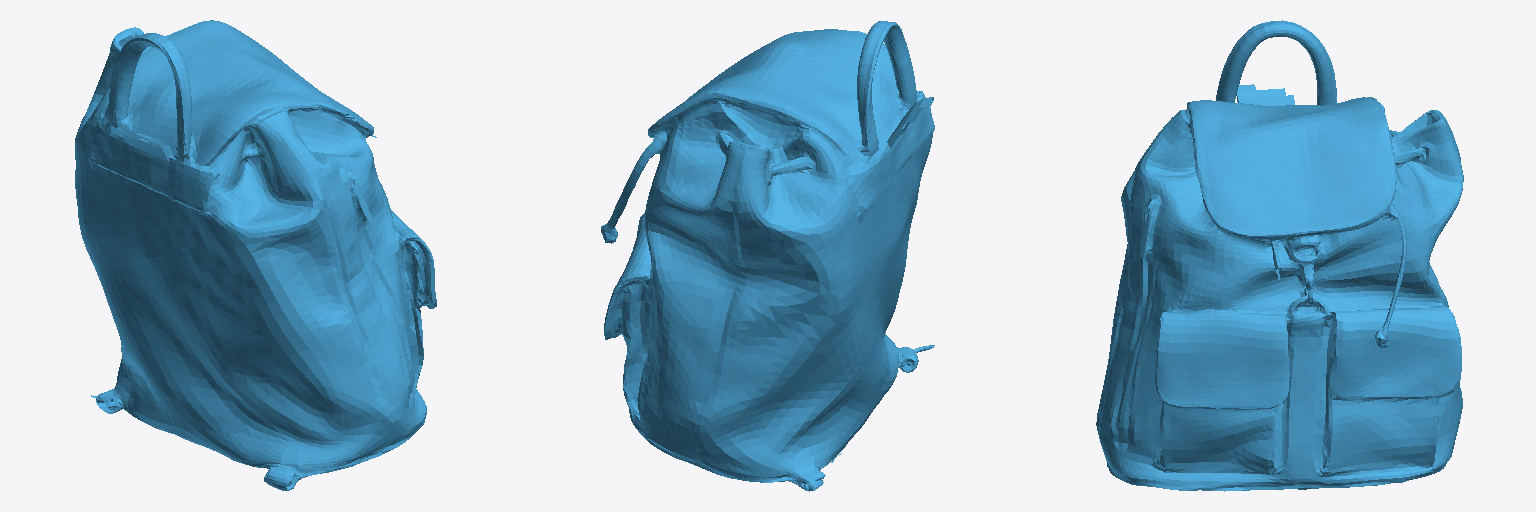
The robot description file, URDF, robot "backpack_robot":
<?xml version="1.0" ?>
<robot name="backpack_robot" xmlns:xacro="http://ros.org/wiki/xacro">

    <link name="world" />

    <link name="backpack_link">
        <visual>
            <origin rpy="0 0 0" xyz="-0.9468651413917542 -0.41371017694473267 -0.6280572414398193"/>
            <geometry>
                <mesh filename="AM159_054_z_up.obj"/>
            </geometry>
        </visual>
        <collision>
            <origin rpy="0 0 0" xyz="-0.9468651413917542 -0.41371017694473267 -0.6280572414398193"/>
            <geometry>
                <mesh filename="AM159_054_z_up.obj"/>
            </geometry>
        </collision>
        <inertial>
            <mass value="30.455"/>
            <origin xyz="0 0 0"/>
            <inertia ixx="0.6022" ixy="-0.02364" ixz="-0.1197" iyy="1.7386" iyz="-0.001544" izz="2.0296"/>
        </inertial>
    </link>

    <joint name="joint_structure" type="fixed">
        <origin xyz="0.000 0.000 0.000" rpy="0 0 0" />
        <parent link="world" />
        <child link="backpack_link" />
    </joint>

</robot>

--- Facts derived from the render (not from the file) ---
3 views of the same robot in one strip: view 1: azimuth 30°, elevation 25°; view 2: azimuth 150°, elevation 25°; view 3: azimuth 270°, elevation 25° (orthographic).
Robot: backpack_robot — 2 links, 1 joints (1 fixed); root link world; default pose: every joint at zero.
Visible links, largest first — view 1: backpack_link; view 2: backpack_link; view 3: backpack_link.
Link boxes in pixels (x1=…): backpack_link: x1=75, y1=20, x2=436, y2=490; backpack_link: x1=601, y1=21, x2=934, y2=491; backpack_link: x1=1096, y1=20, x2=1463, y2=491.
Size in the robot's own frame: 0.3169 by 0.3923 by 0.4812 metres.
1 mesh visuals loaded from 1 distinct referenced files (1 OBJ).